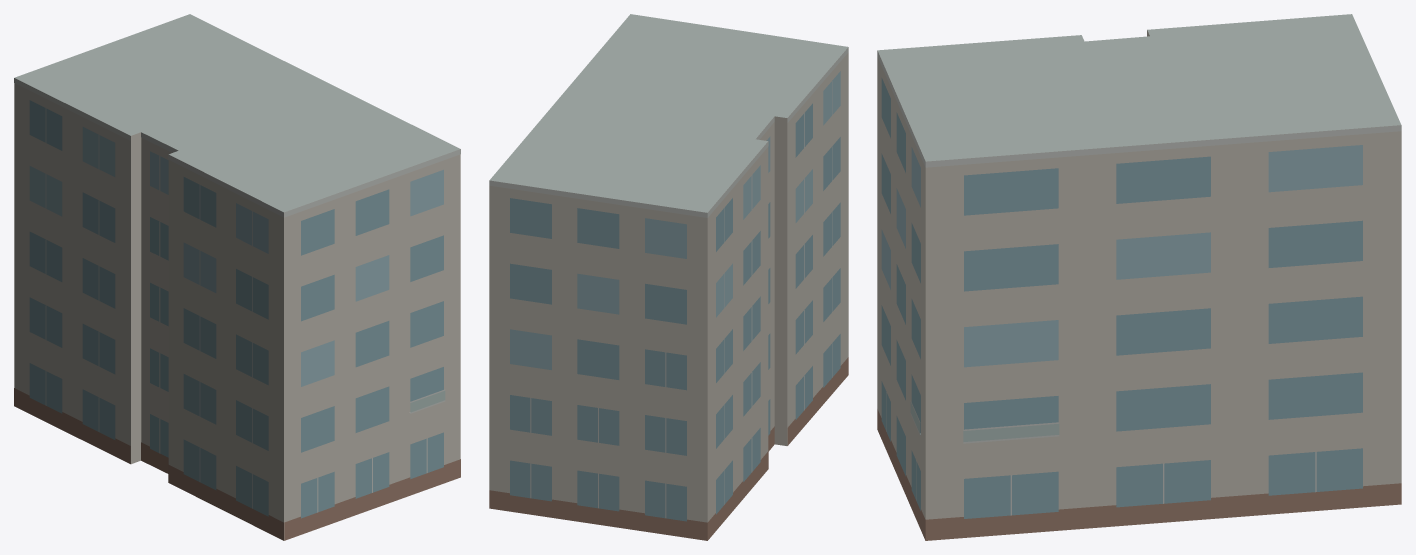
Rendered from survey-upis-32605049.glb.
3 views of the same model, side by side, from view 1: azimuth 30°, elevation 25°; view 2: azimuth 150°, elevation 25°; view 3: azimuth 270°, elevation 25° (orthographic). The views are drawn at different scales.
Parts seen in each view (by area): view 1: survey-upis-32605049.tmp; view 2: survey-upis-32605049.tmp; view 3: survey-upis-32605049.tmp.
Boxes of the visible parts, bbox=[...] form: survey-upis-32605049.tmp: bbox=[14, 14, 460, 540]; survey-upis-32605049.tmp: bbox=[489, 14, 848, 540]; survey-upis-32605049.tmp: bbox=[877, 14, 1401, 540].
Bounding box in the file's own units: 12.74 × 15.25 × 19.11.
